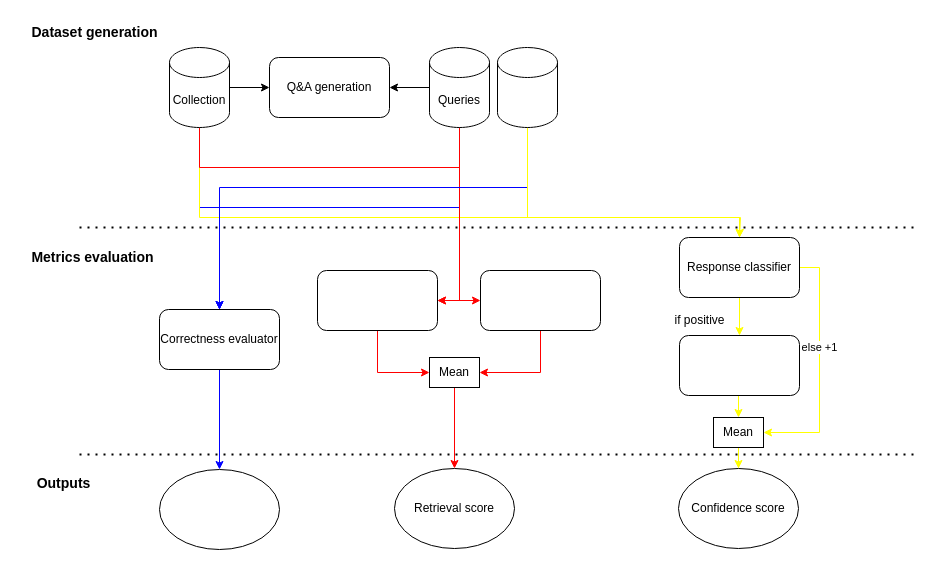
Some shapes in this 938 by 567 pixel diagram are drawn without their labels. Each missing label, with the centre of its shape:
"Answer" goes at point (527, 87).
"Classic top k retrieval evaluator" goes at point (377, 300).
"Faithfulness evaluator" goes at point (739, 365).
"LLM retrieval evaluator" goes at point (540, 300).
"Quality socre" goes at point (219, 509).
